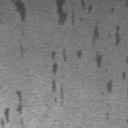red iron: (51, 0, 128, 106), (2, 91, 24, 128), (14, 0, 26, 22), (20, 46, 23, 56), (106, 114, 109, 121)
